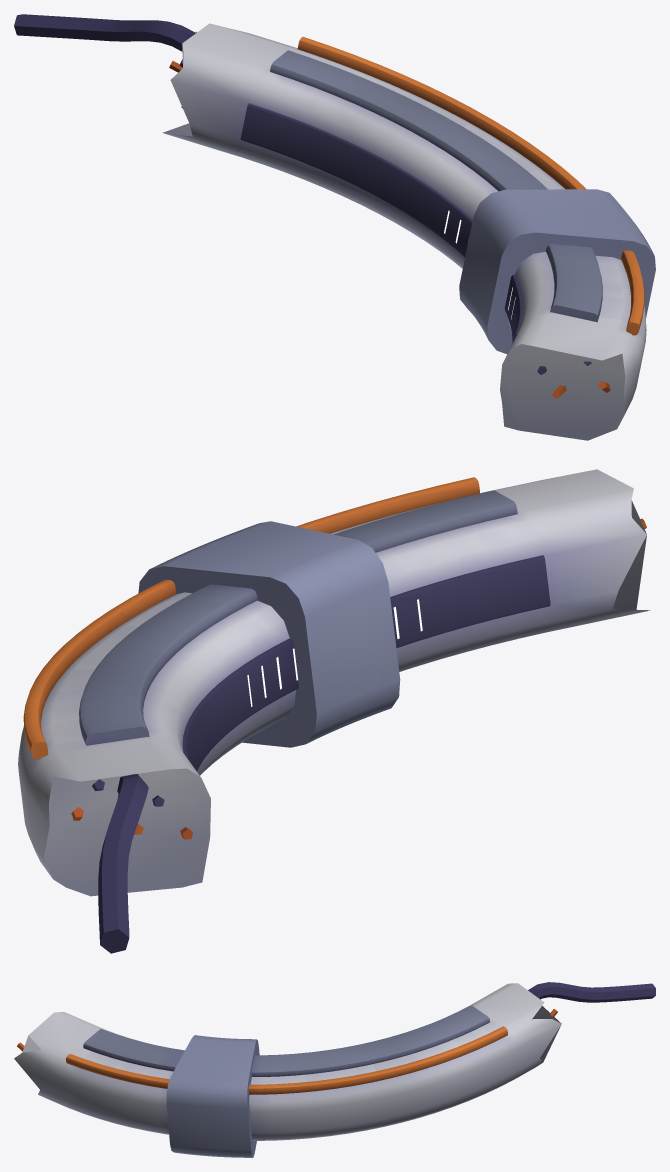
File: hub_loom_ring_fragment_c.glb
3 views of the same model, one above another, from view 1: azimuth 30°, elevation 25°; view 2: azimuth 150°, elevation 25°; view 3: azimuth 270°, elevation 25° (orthographic). The views are drawn at different scales.
Visible parts, largest first — view 1: hub_loom_ring_fragment_c; view 2: hub_loom_ring_fragment_c; view 3: hub_loom_ring_fragment_c.
Boxes of the visible parts, bbox=[...] form: hub_loom_ring_fragment_c: bbox=[14, 14, 655, 440]; hub_loom_ring_fragment_c: bbox=[18, 469, 650, 953]; hub_loom_ring_fragment_c: bbox=[14, 982, 655, 1157].
Bounding box in the file's own units: 3.55 × 1.98 × 10.04.
